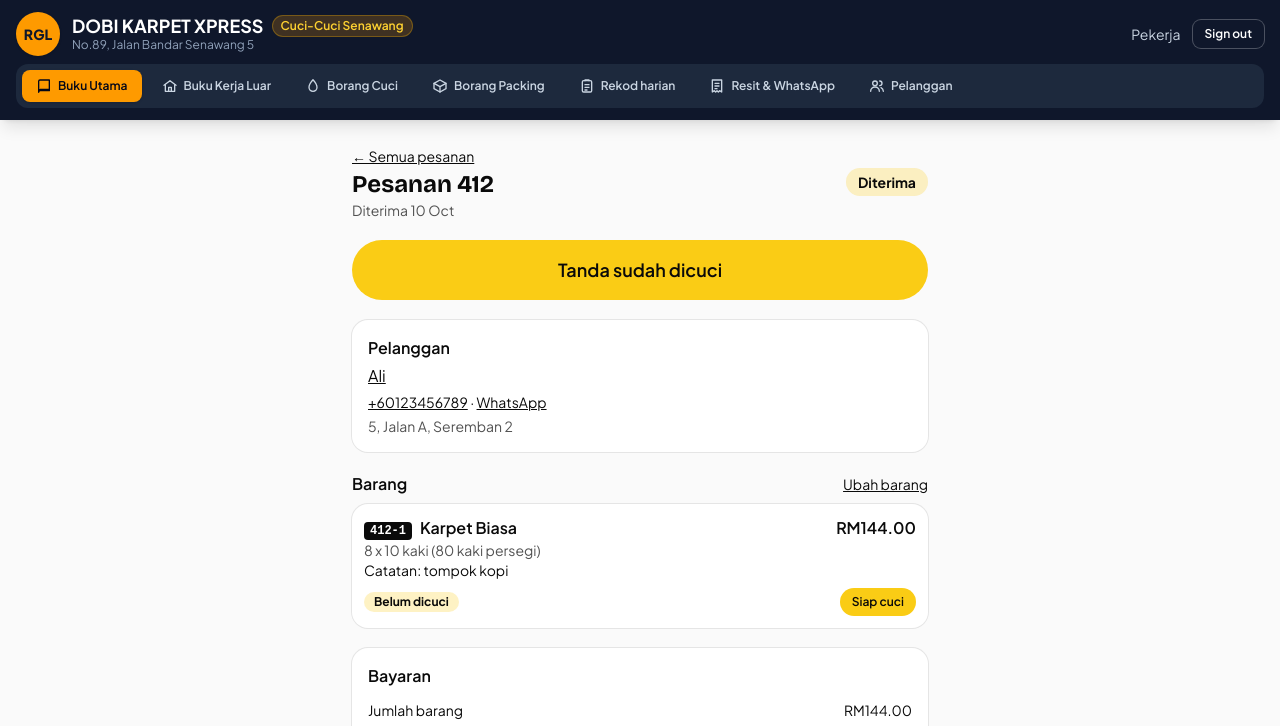
Scenario: back office › moves an order to the next step with one button
Expected: the text "412-1" is shown, top-left (364, 522), bottom-right (412, 540)
Click the button "Tanda sudah dicuci" at (640, 270), box top-left (352, 240), bottom-right (928, 300)
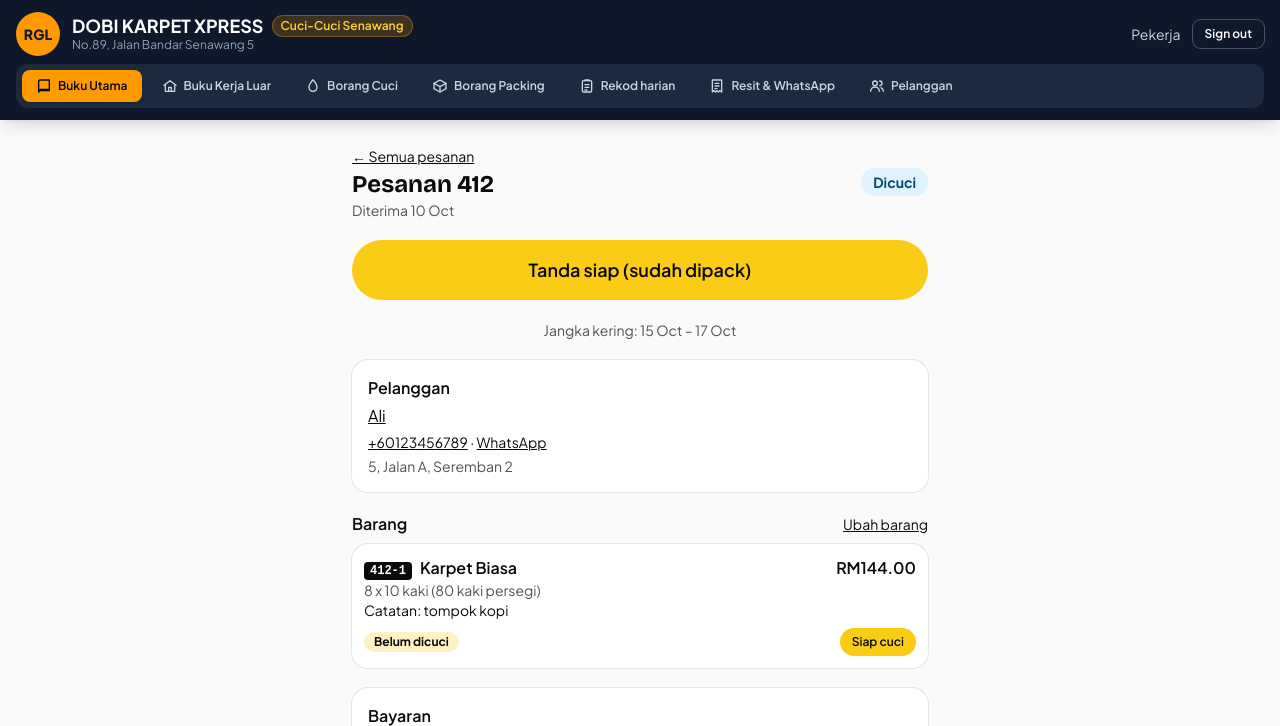
Result: the text "Jangka kering: 15 Oct – 17 Oct" is shown at top-left (544, 321), bottom-right (736, 339)
Result: the button "Tanda siap (sudah dipack)" is shown at top-left (352, 240), bottom-right (928, 300)
